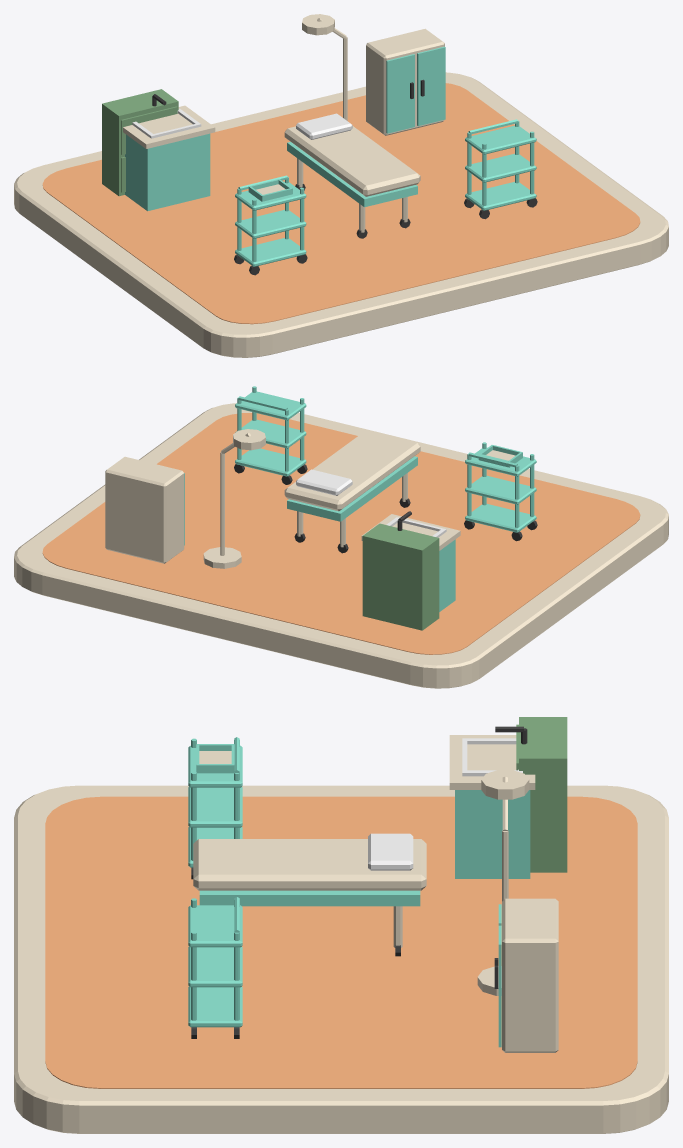
The model's file is room.fbx.
3 views of the same model, one above another, from view 1: azimuth 30°, elevation 25°; view 2: azimuth 150°, elevation 25°; view 3: azimuth 270°, elevation 25° (orthographic). The views are drawn at different scales.
Parts seen in each view (by area): view 1: COM-02 Floor Surface, COM-01 Rounded Base Direct, Cabinet, Mattress, Cabinet.001, Equipment case, Door.001, Door, Counter, Base, Tray.005, Tray.004 (+6 smaller); view 2: COM-02 Floor Surface, COM-01 Rounded Base Direct, Equipment case, Cabinet.001, Mattress, Base, Tray.001, Tray, Tray.003, Tray.005, Cabinet, Pillow (+6 smaller); view 3: COM-02 Floor Surface, COM-01 Rounded Base Direct, Mattress, Equipment case, Cabinet.001, Cabinet, Base, Counter, Tray.005, Tray.003, Tray.004, Tray.001 (+4 smaller).
Boxes of the visible parts, x1,y1,x2,y2 form: COM-02 Floor Surface: (42, 83, 640, 324); COM-01 Rounded Base Direct: (14, 72, 668, 357); Cabinet: (125, 133, 210, 211); Mattress: (284, 126, 420, 196); Cabinet.001: (102, 89, 178, 196); Equipment case: (366, 28, 444, 135); Door.001: (417, 46, 445, 126); Door: (386, 54, 414, 133); Counter: (123, 105, 215, 148); Base: (287, 142, 417, 207); Tray.005: (465, 125, 536, 154); Tray.004: (465, 153, 536, 182); COM-02 Floor Surface: (42, 413, 640, 654); COM-01 Rounded Base Direct: (14, 403, 668, 688); Equipment case: (105, 456, 184, 563); Cabinet.001: (362, 523, 439, 630); Mattress: (284, 430, 420, 511); Base: (287, 456, 417, 521); Tray.001: (465, 475, 536, 504); Tray: (465, 504, 536, 532); Tray.003: (235, 448, 306, 476); Tray.005: (235, 391, 306, 420); Cabinet: (439, 539, 455, 611); Pillow: (296, 469, 352, 495); COM-02 Floor Surface: (45, 796, 637, 1088); COM-01 Rounded Base Direct: (14, 785, 668, 1133); Mattress: (193, 839, 426, 890); Equipment case: (502, 898, 558, 1052); Cabinet.001: (516, 717, 567, 872); Cabinet: (455, 790, 530, 878); Base: (199, 890, 420, 906); Counter: (449, 735, 535, 789); Tray.005: (188, 905, 242, 947); Tray.003: (188, 986, 242, 1027); Tray.004: (188, 946, 242, 987); Tray.001: (188, 787, 242, 827).
Bounding box in the file's own units: 600 × 196 × 520.
